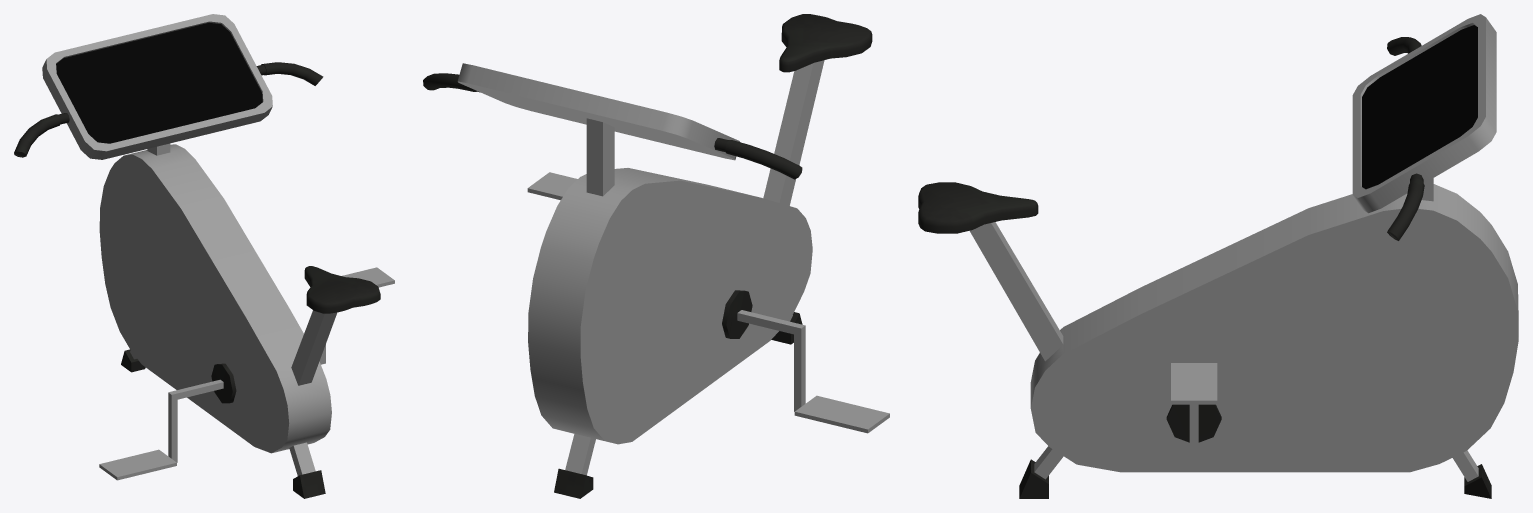
The model's file is exercise-bike.glb.
3 renders of one model, left to right at view 1: azimuth 30°, elevation 25°; view 2: azimuth 150°, elevation 25°; view 3: azimuth 270°, elevation 25°, orthographic. The views are drawn at different scales.
Visible parts, largest first — view 1: exercise_bike_gym_environment_0; view 2: exercise_bike_gym_environment_0; view 3: exercise_bike_gym_environment_0.
Boxes of the visible parts, x1,y1,x2,y2 form: exercise_bike_gym_environment_0: (14,14,394,498); exercise_bike_gym_environment_0: (423,14,889,498); exercise_bike_gym_environment_0: (918,14,1518,498).
Bounding box in the file's own units: 1.16 × 1.18 × 1.51.
1 material, 1 textured.
